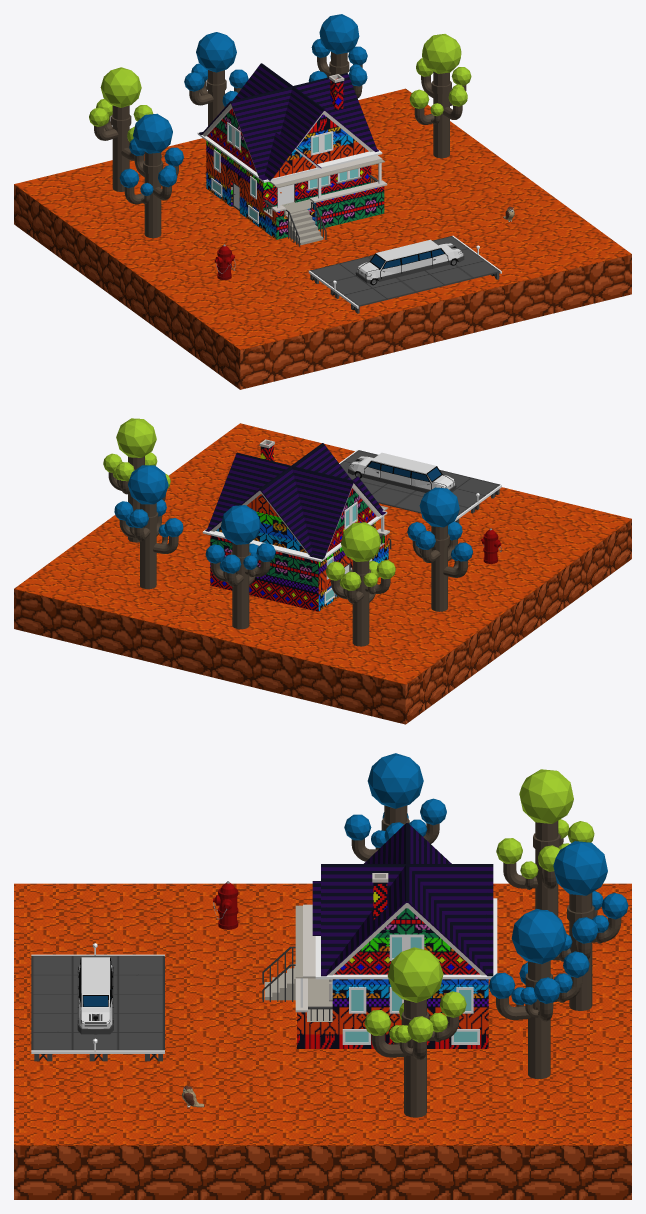
3 views of the same model, one above another, from view 1: azimuth 30°, elevation 25°; view 2: azimuth 150°, elevation 25°; view 3: azimuth 270°, elevation 25° (orthographic). The views are drawn at different scales.
Parts seen in each view (by area): view 1: Cube.001, Cube.966, VEHICLES_LIMOUSINE, OBJRANDOM_FIRE_HYDRANT; view 2: Cube.001, Cube.966, VEHICLES_LIMOUSINE, OBJRANDOM_FIRE_HYDRANT; view 3: Cube.001, Cube.966, VEHICLES_LIMOUSINE, OBJRANDOM_FIRE_HYDRANT.
Part boxes in pixels (left/top/right/bottom): Cube.001: left=14, top=14, right=631, bottom=389; Cube.966: left=197, top=63, right=387, bottom=246; VEHICLES_LIMOUSINE: left=355, top=239, right=464, bottom=285; OBJRANDOM_FIRE_HYDRANT: left=214, top=244, right=235, bottom=279; Cube.001: left=14, top=418, right=631, bottom=724; Cube.966: left=202, top=439, right=391, bottom=611; VEHICLES_LIMOUSINE: left=348, top=452, right=456, bottom=492; OBJRANDOM_FIRE_HYDRANT: left=481, top=528, right=501, bottom=563; Cube.001: left=14, top=753, right=631, bottom=1199; Cube.966: left=262, top=823, right=497, bottom=1048; VEHICLES_LIMOUSINE: left=77, top=957, right=113, bottom=1034; OBJRANDOM_FIRE_HYDRANT: left=213, top=881, right=238, bottom=929.
Size of the model in its own units: 4000 by 1642 by 4000.
Materials: 41 (8 with a texture image).
